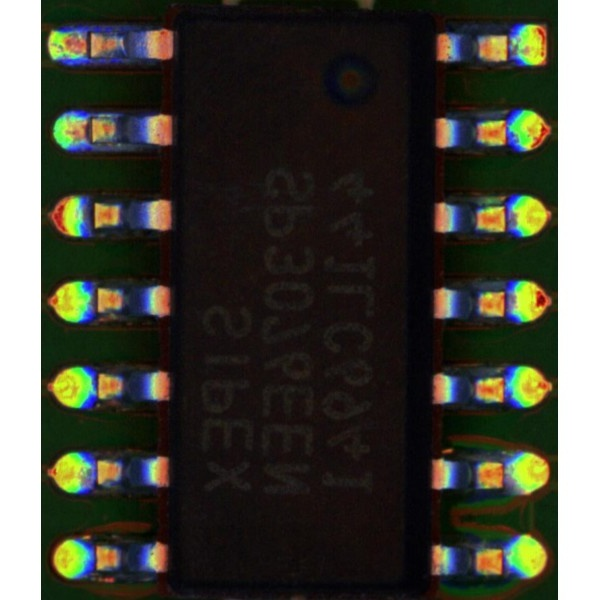Bad_podu: (70, 119, 99, 143), (77, 34, 101, 57)
